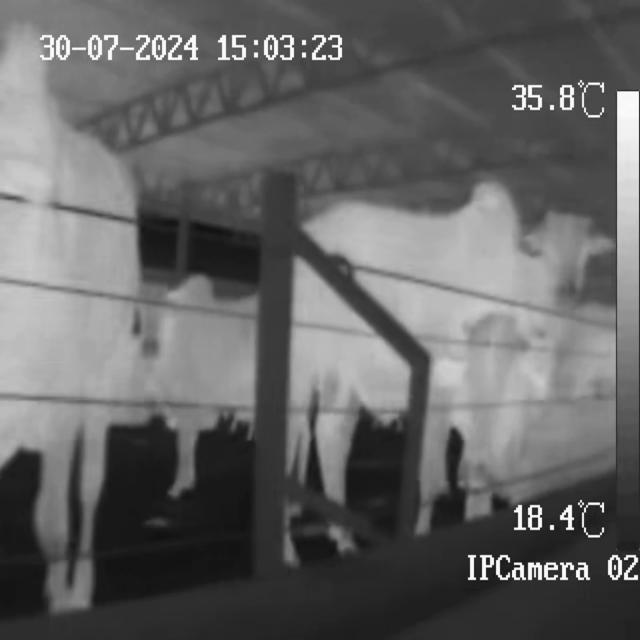eye: (505, 359, 523, 400), (548, 242, 560, 266), (576, 244, 588, 264)
head: (456, 317, 534, 497), (542, 203, 589, 311)
